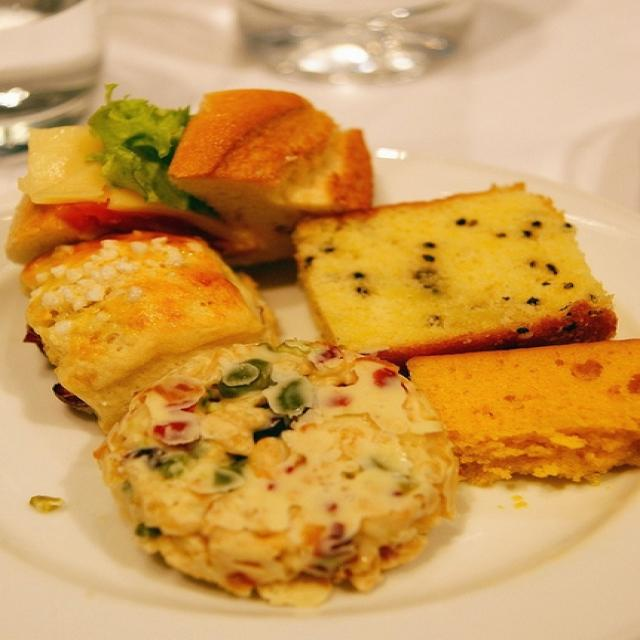面包点心: (9, 42, 619, 623)
